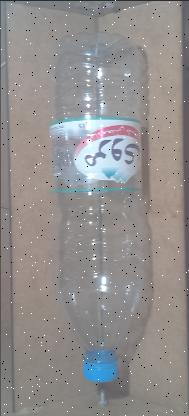Plastic Bottle: (48, 31, 144, 382)
